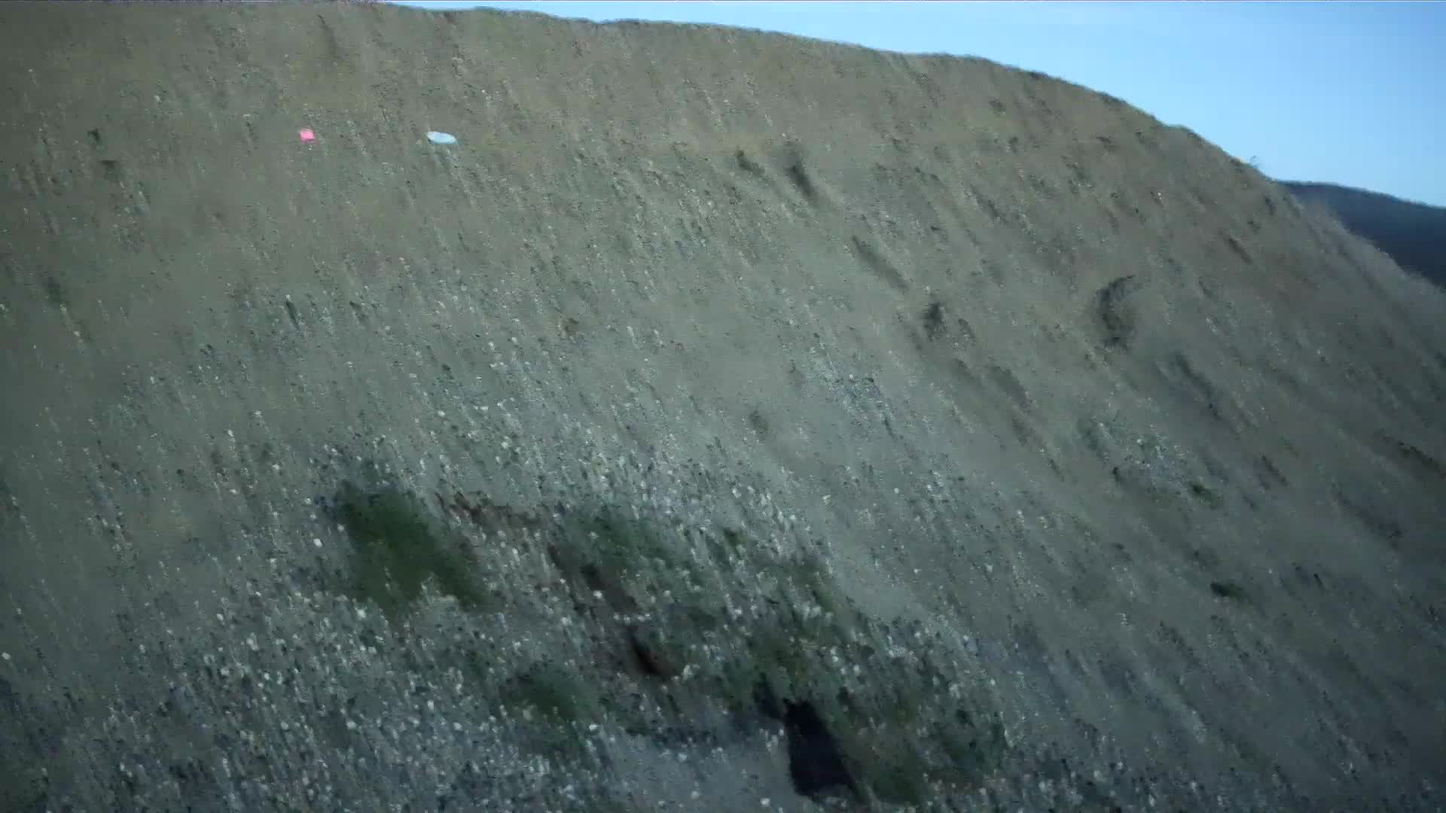Target: (425, 130, 458, 144)
